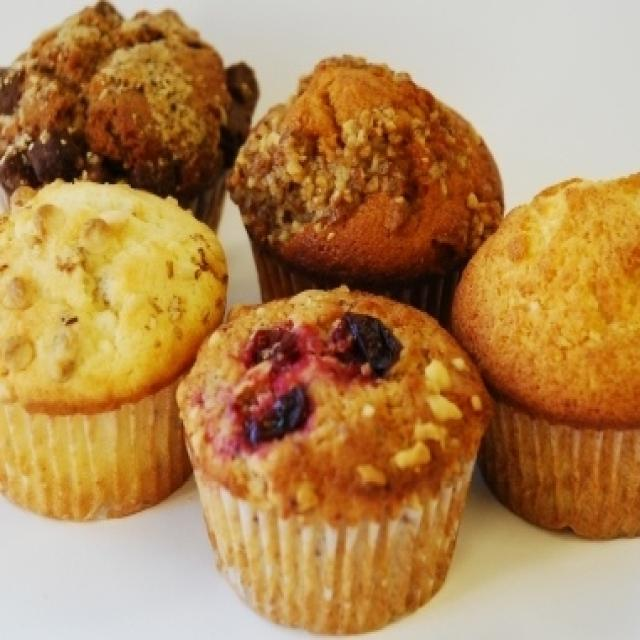炸货点心: (3, 6, 637, 616)
面包点心: (3, 6, 637, 616)
